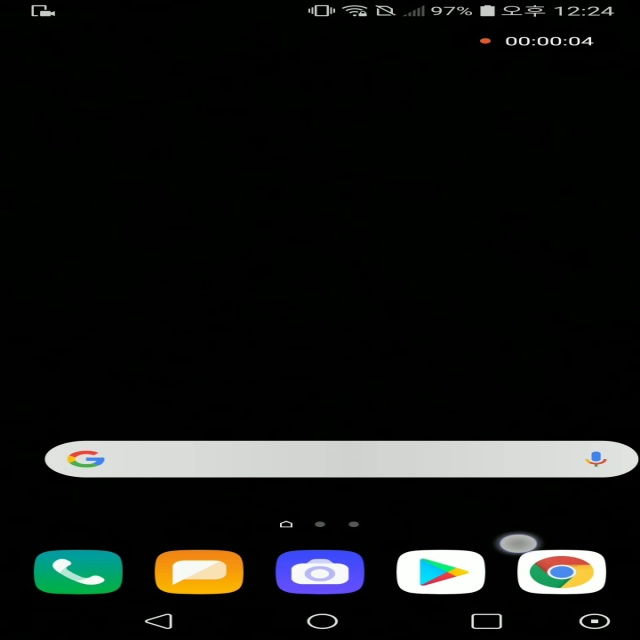Cursor: (494, 534, 538, 556)
